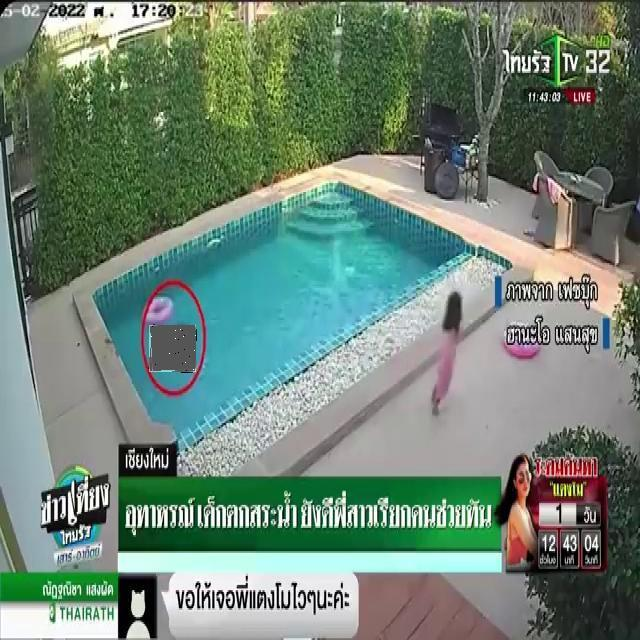Out of Water: (149, 325, 196, 372)
